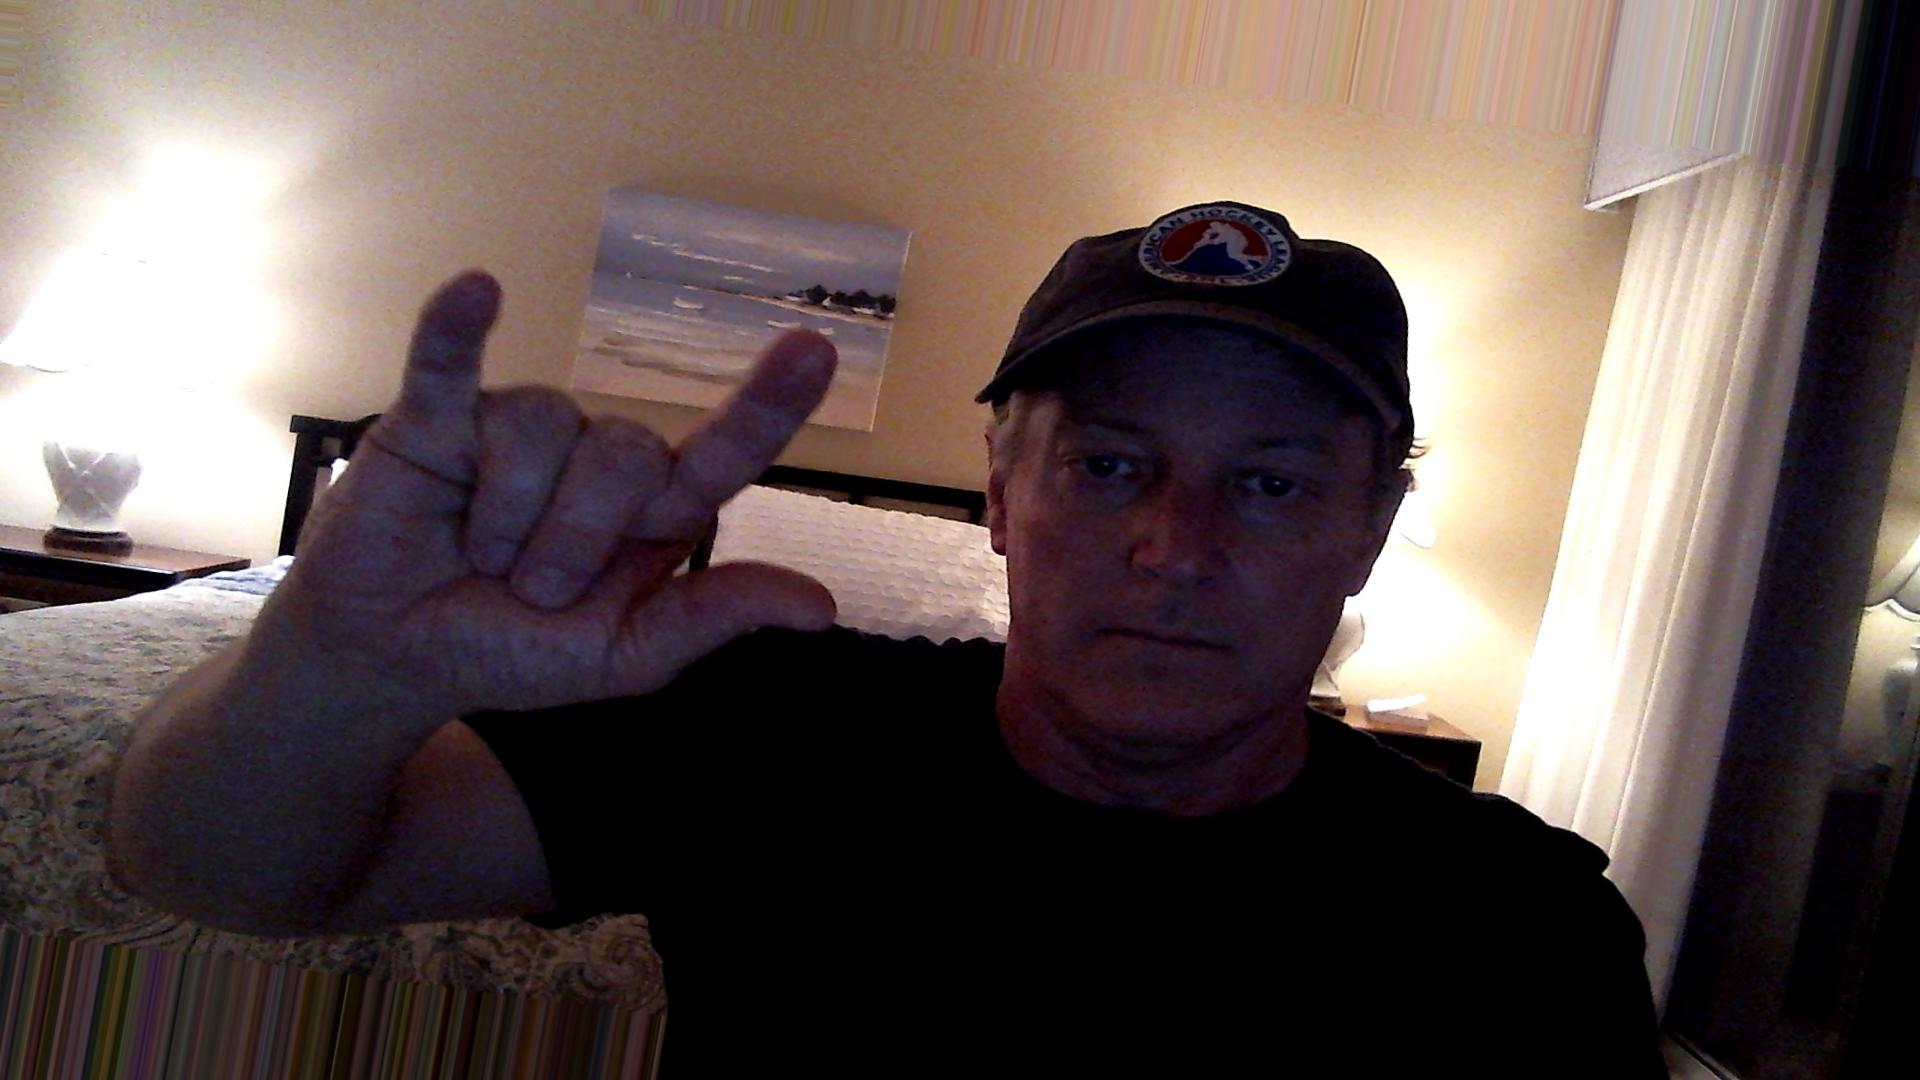I Love You: (291, 244, 881, 728)
